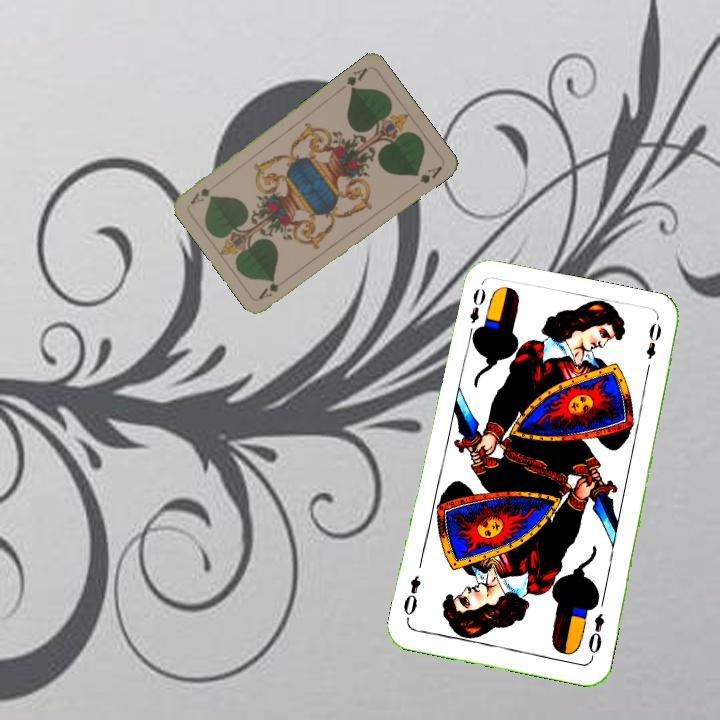EO: (464, 284, 488, 341), (584, 609, 607, 661)
GA: (255, 273, 290, 302), (342, 63, 370, 94)
